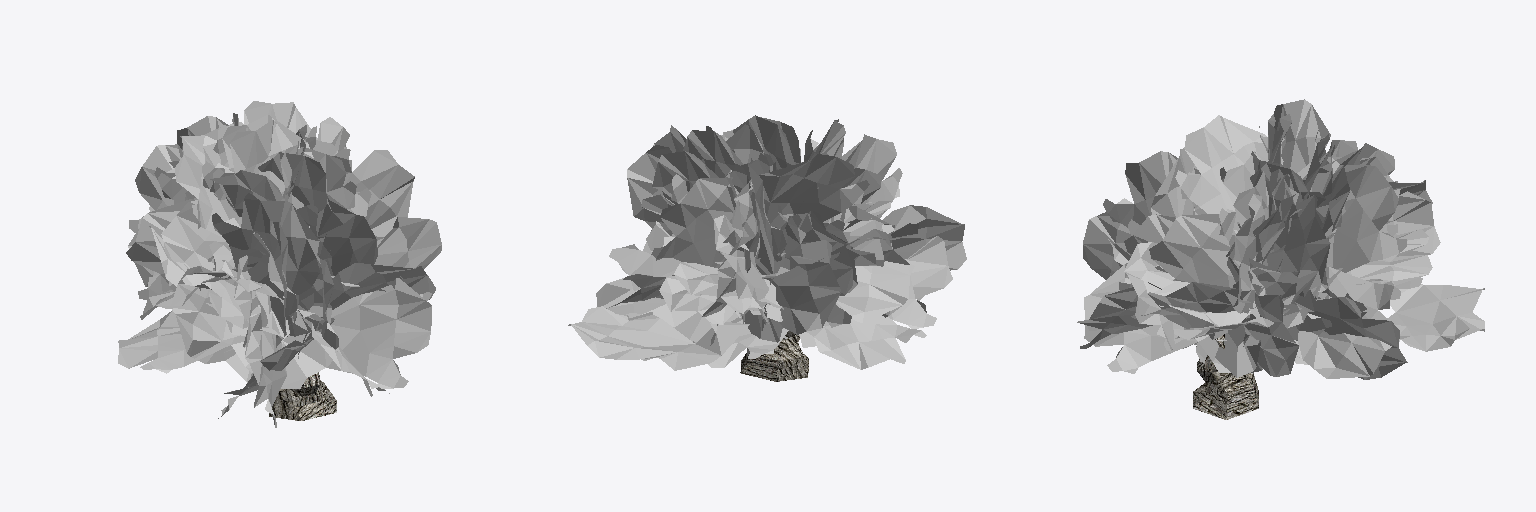
3 renders of one model, left to right at view 1: azimuth 30°, elevation 25°; view 2: azimuth 150°, elevation 25°; view 3: azimuth 270°, elevation 25°, orthographic.
Parts seen in each view (by area): view 1: Tree_Branch_Tree_Branch.001, Cube; view 2: Tree_Branch_Tree_Branch.001, Cube; view 3: Tree_Branch_Tree_Branch.001, Cube.
Part boxes in pixels (bbox=[...]): Tree_Branch_Tree_Branch.001: bbox=[118, 101, 441, 427]; Cube: bbox=[269, 372, 336, 420]; Tree_Branch_Tree_Branch.001: bbox=[568, 115, 966, 370]; Cube: bbox=[740, 331, 808, 381]; Tree_Branch_Tree_Branch.001: bbox=[1077, 99, 1484, 379]; Cube: bbox=[1193, 334, 1258, 419].
Size of the model in its own units: 9.88 by 9.49 by 12.76.
2 materials, 1 textured.